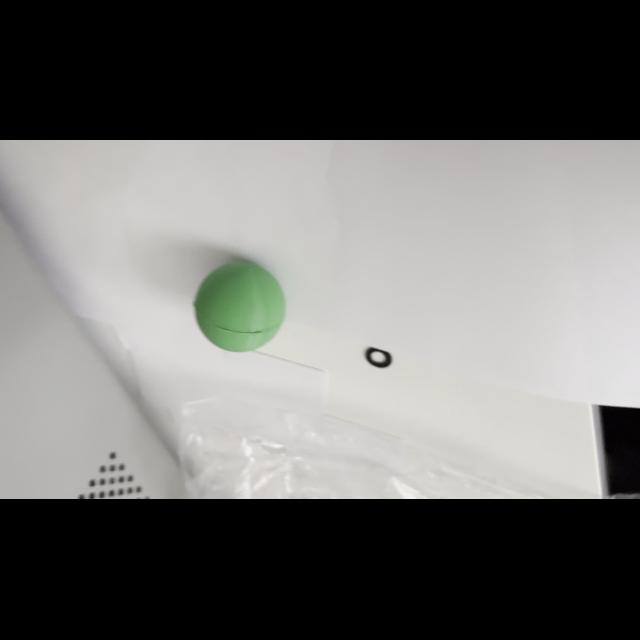objects: (190, 256, 290, 356)
